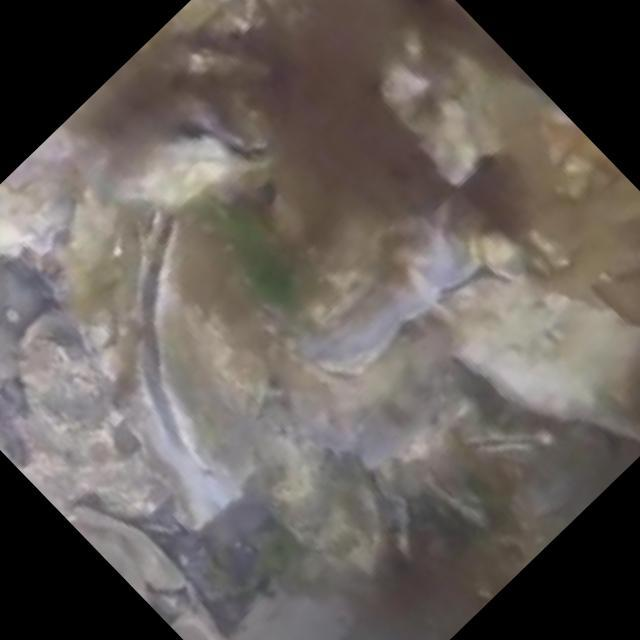Oyster- Indeterminate: (273, 141, 488, 378), (438, 284, 640, 433), (385, 486, 427, 571)
Oyster-Open: (139, 202, 270, 485), (132, 48, 273, 204), (420, 459, 487, 531), (462, 428, 559, 462)
